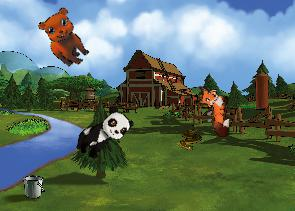bear: (31, 2, 101, 72)
fox: (195, 85, 230, 137)
panda: (70, 102, 136, 165)
